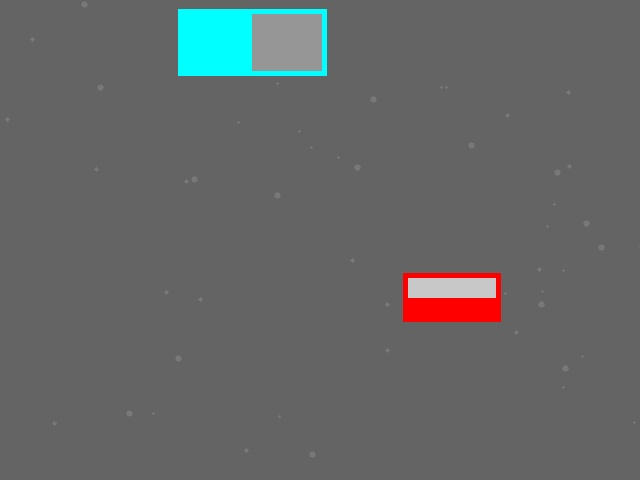car: (403, 273, 500, 321)
truck: (178, 9, 326, 75)
